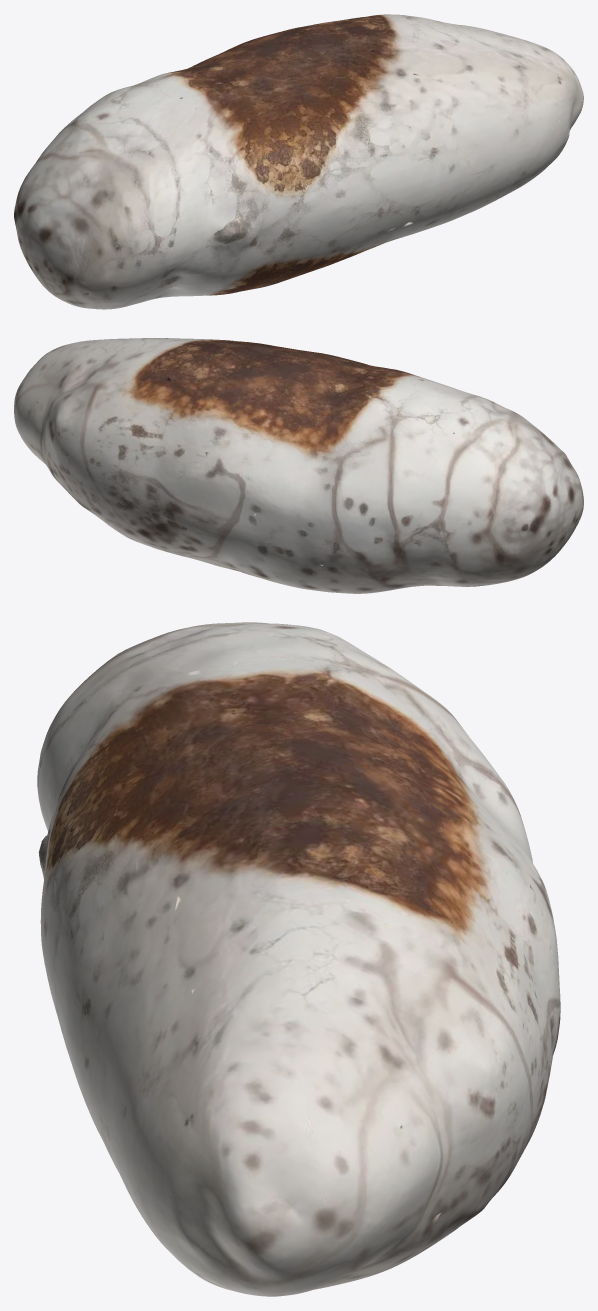
File: necator-americanus_H_optimized.glb
3 views of the same model, one above another, from view 1: azimuth 30°, elevation 25°; view 2: azimuth 150°, elevation 25°; view 3: azimuth 270°, elevation 25° (orthographic). The views are drawn at different scales.
Bounding box in the file's own units: 2 × 0.7338 × 0.8534.
1 material, 1 textured.
